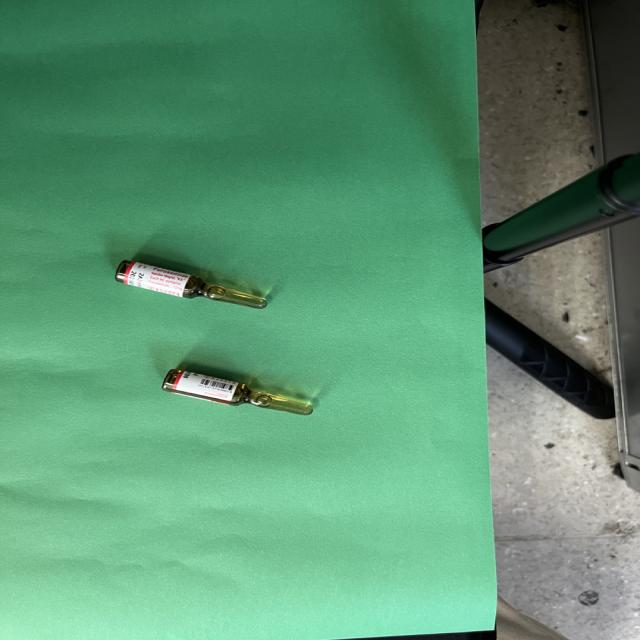Ampoules: (114, 260, 267, 309), (161, 368, 313, 415)
